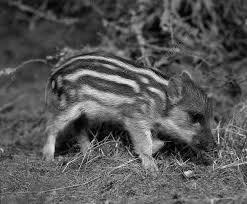wildboar: (40, 49, 220, 177)
